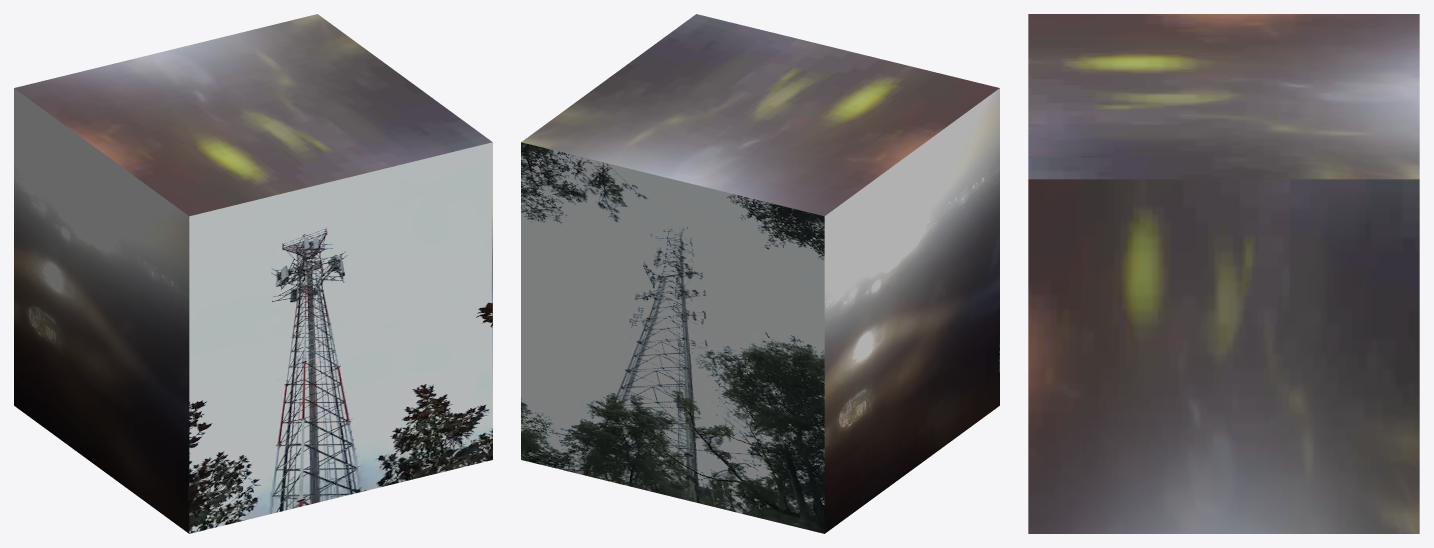
Rendered from swamp.glb.
3 views of the same model, side by side, from view 1: azimuth 30°, elevation 25°; view 2: azimuth 150°, elevation 25°; view 3: azimuth 270°, elevation 25° (orthographic). The views are drawn at different scales.
Parts seen in each view (by area): view 1: innerCube; view 2: innerCube; view 3: innerCube.
Part boxes in pixels (x1,y1,x2,y2): innerCube: (14, 14, 492, 533); innerCube: (521, 14, 999, 533); innerCube: (1028, 14, 1419, 533).
Bounding box in the file's own units: 11.55 × 11.56 × 11.55.
6 materials, 6 textured.
